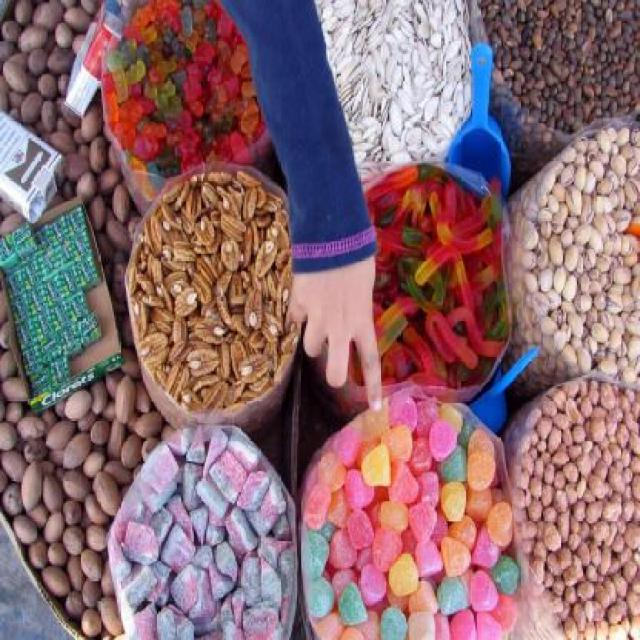Candy: (314, 160, 512, 420), (314, 413, 524, 610), (107, 423, 296, 640), (100, 0, 271, 215)
